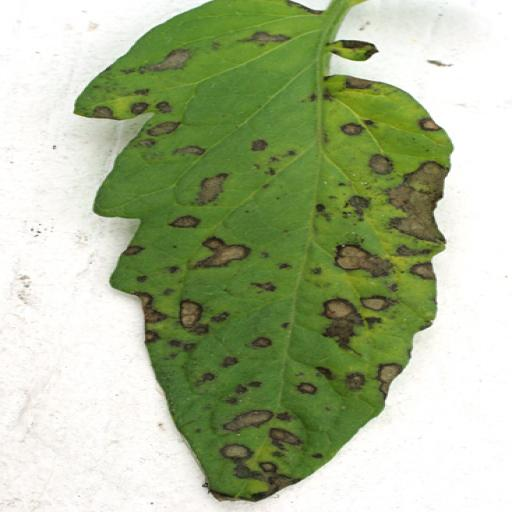Septoria: (57, 0, 463, 500)
